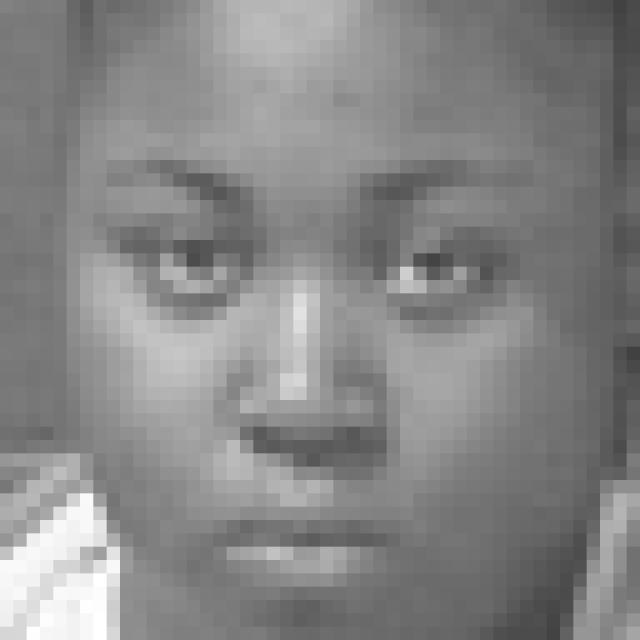neutral: (88, 146, 540, 627)
